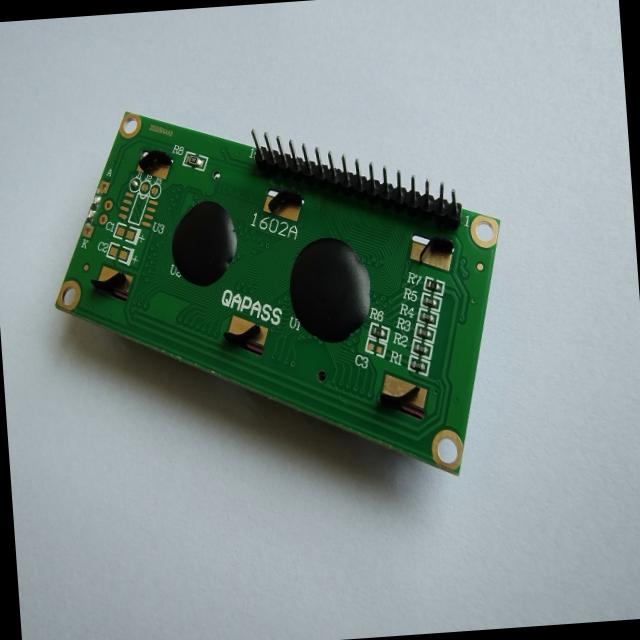lcd: (40, 83, 519, 504)
